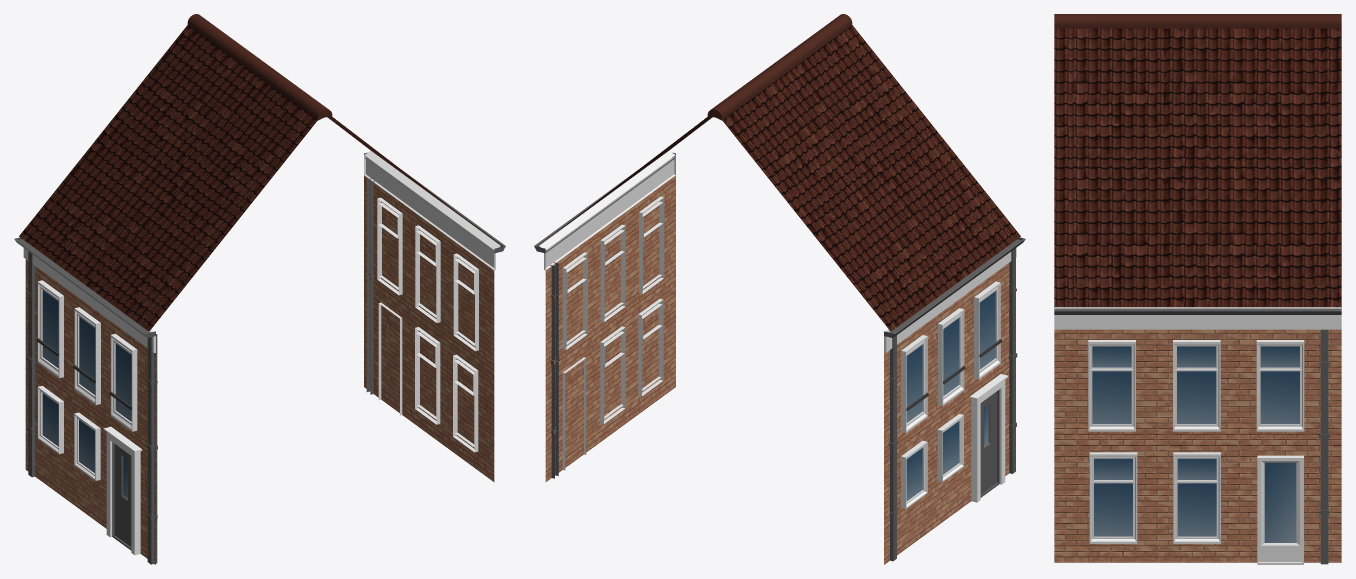
The model's file is Buorkerij_41.fbx.
3 renders of one model, left to right at view 1: azimuth 30°, elevation 25°; view 2: azimuth 150°, elevation 25°; view 3: azimuth 270°, elevation 25°, orthographic. The views are drawn at different scales.
Parts seen in each view (by area): view 1: Buorkerij_41; view 2: Buorkerij_41; view 3: Buorkerij_41.
Boxes of the visible parts, left/top/right/bottom form: Buorkerij_41: left=14, top=14, right=505, bottom=564; Buorkerij_41: left=534, top=14, right=1025, bottom=564; Buorkerij_41: left=1054, top=14, right=1341, bottom=564.
Size of the model in its own units: 9.29 by 10.17 by 5.8.
